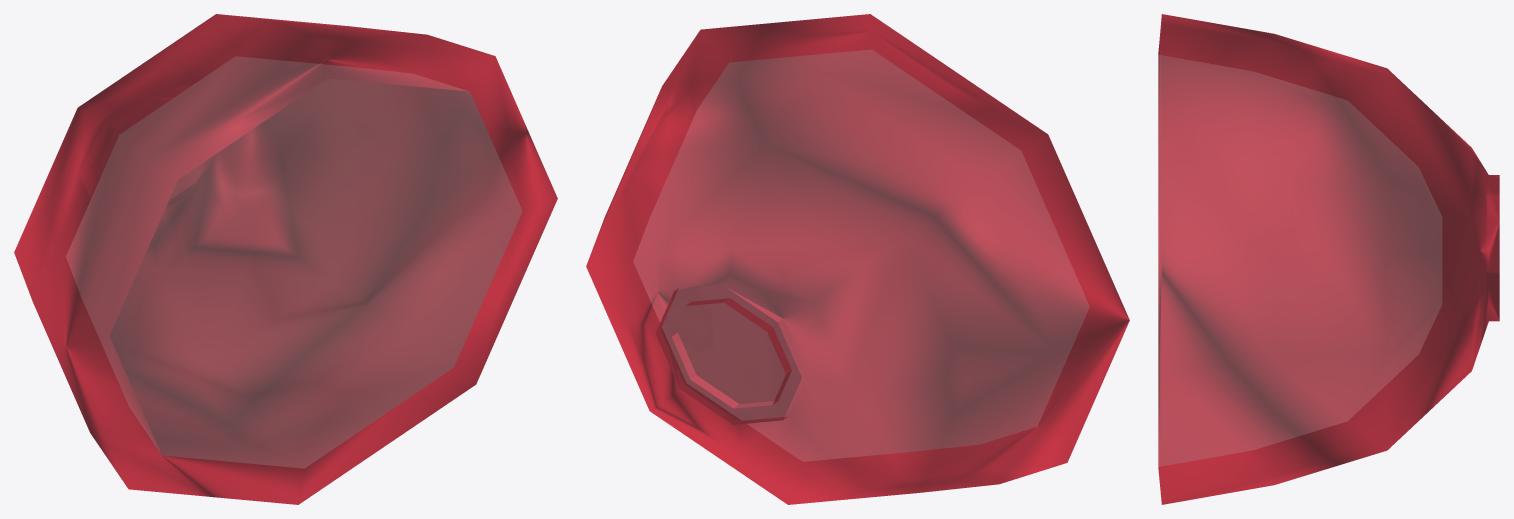
Rendered from model_align.obj.
3 renders of one model, left to right at view 1: azimuth 30°, elevation 25°; view 2: azimuth 150°, elevation 25°; view 3: azimuth 270°, elevation 25°, orthographic. The views are drawn at different scales.
Size of the model in its own units: 0.1585 by 0.141 by 0.0901.
